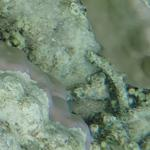dead: (1, 2, 149, 148)
